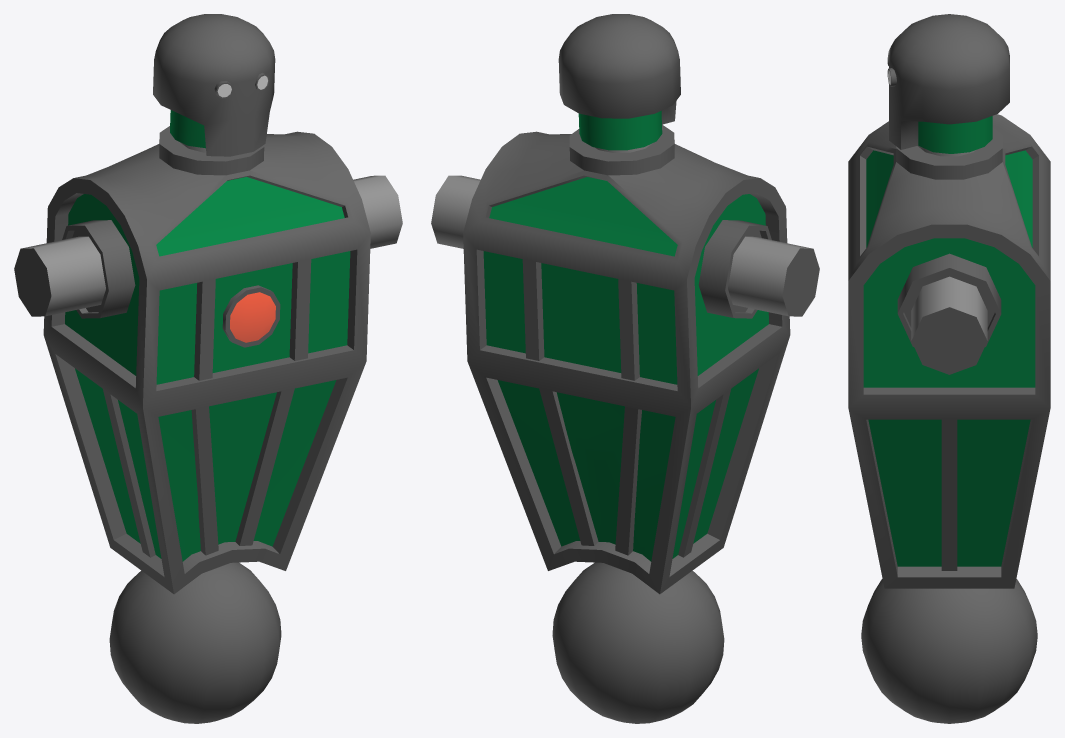
Rendered from perso_leanLeft.fbx.
3 views of the same model, side by side, from view 1: azimuth 30°, elevation 25°; view 2: azimuth 150°, elevation 25°; view 3: azimuth 270°, elevation 25° (orthographic).
Visible parts, largest first — view 1: body, Locomotion, head, bars; view 2: body, Locomotion, head, bars; view 3: body, Locomotion, head, bars.
Part boxes in pixels (x1,y1,x2,y2): body: (14,126,402,594); Locomotion: (109,562,281,723); head: (153,14,275,156); bars: (103,259,311,557); body: (431,124,819,594); Locomotion: (552,562,724,723); head: (558,14,680,150); bars: (522,259,730,557); body: (848,114,1050,588); Locomotion: (861,579,1037,723); head: (889,14,1009,153); bars: (941,419,957,570).
Bounding box in the file's own units: 3.2 × 5.97 × 1.56.
